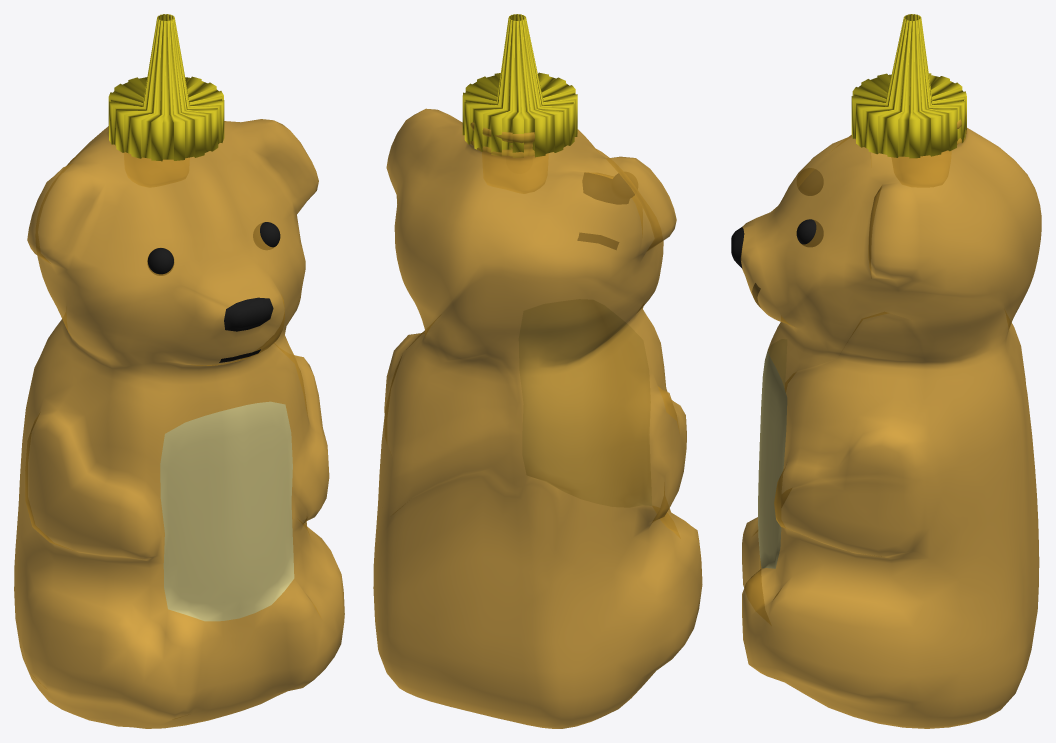
Rendered from honey.fbx.
3 views of the same model, side by side, from view 1: azimuth 30°, elevation 25°; view 2: azimuth 150°, elevation 25°; view 3: azimuth 270°, elevation 25° (orthographic).
Parts seen in each view (by area): view 1: Honey_Bottle, Cap; view 2: Honey_Bottle, Cap; view 3: Honey_Bottle, Cap.
Part boxes in pixels (box(x1,y1,x2,y2)): Honey_Bottle: box(14, 119, 344, 728); Cap: box(108, 14, 224, 161); Honey_Bottle: box(373, 108, 702, 728); Cap: box(462, 14, 577, 157); Honey_Bottle: box(731, 112, 1041, 728); Cap: box(851, 14, 966, 158).
Bounding box in the file's own units: 0.2794 × 0.6311 × 0.2632.
